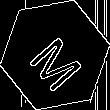M_NE: (23, 21, 87, 89)
